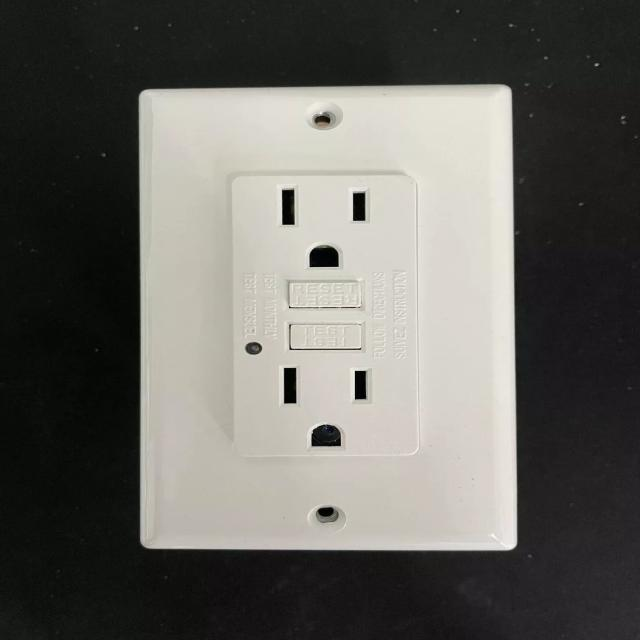hidden camera: (312, 425, 341, 443)
